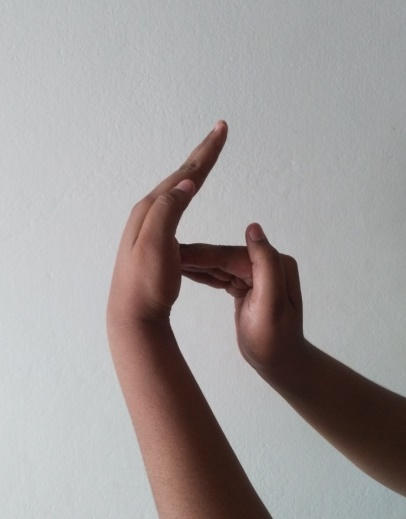ga: (104, 118, 307, 365)
